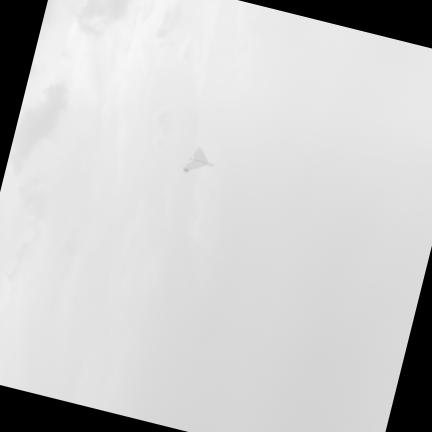Shahed: (183, 146, 212, 171)
